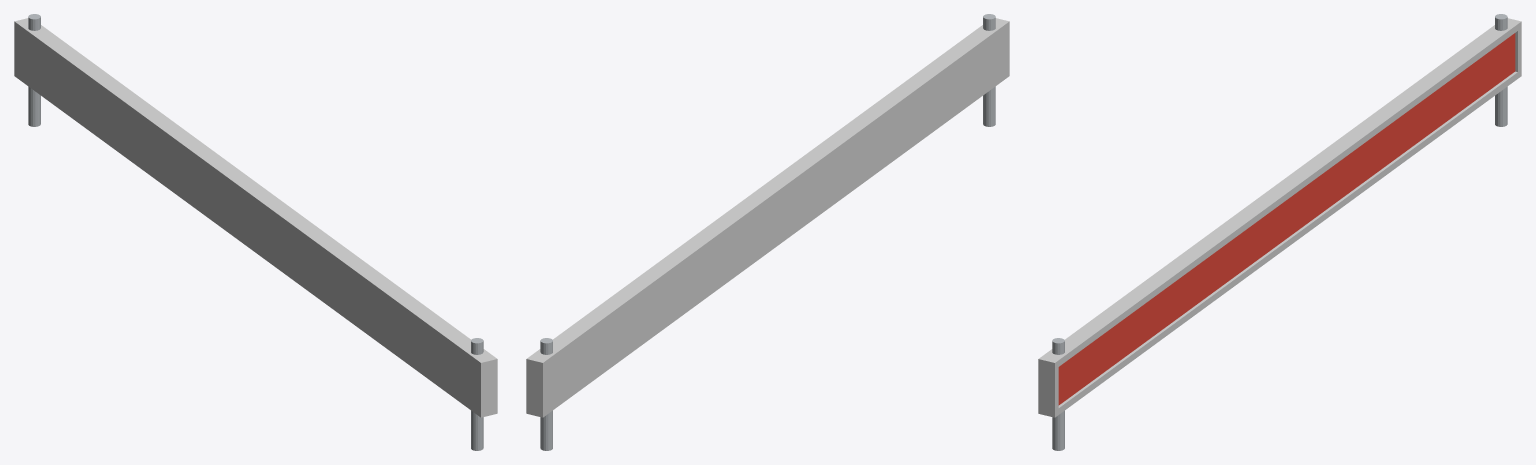
Rendered from deadEndSign.fbx.
3 views of the same model, side by side, from view 1: azimuth 30°, elevation 25°; view 2: azimuth 150°, elevation 25°; view 3: azimuth 330°, elevation 25° (orthographic).
Visible parts, largest first — view 1: Cube; view 2: Cube; view 3: Cube.
Boxes of the visible parts, bbox=[...] form: Cube: bbox=[14, 14, 497, 450]; Cube: bbox=[526, 14, 1009, 450]; Cube: bbox=[1038, 14, 1521, 450].
Size of the model in its own units: 29.69 by 185 by 1452.
